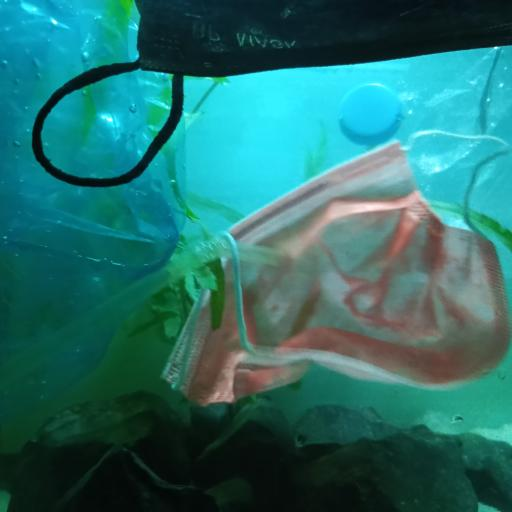bottle_cap: (339, 83, 401, 143)
mask: (161, 131, 512, 408), (35, 0, 512, 187)
plastic_bag: (0, 0, 186, 449), (391, 48, 512, 203)
plastic_straw: (0, 240, 283, 392)
